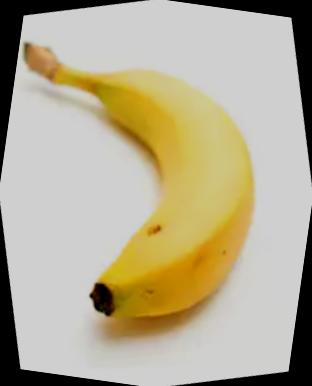Banana Ripe: (0, 0, 299, 382)
